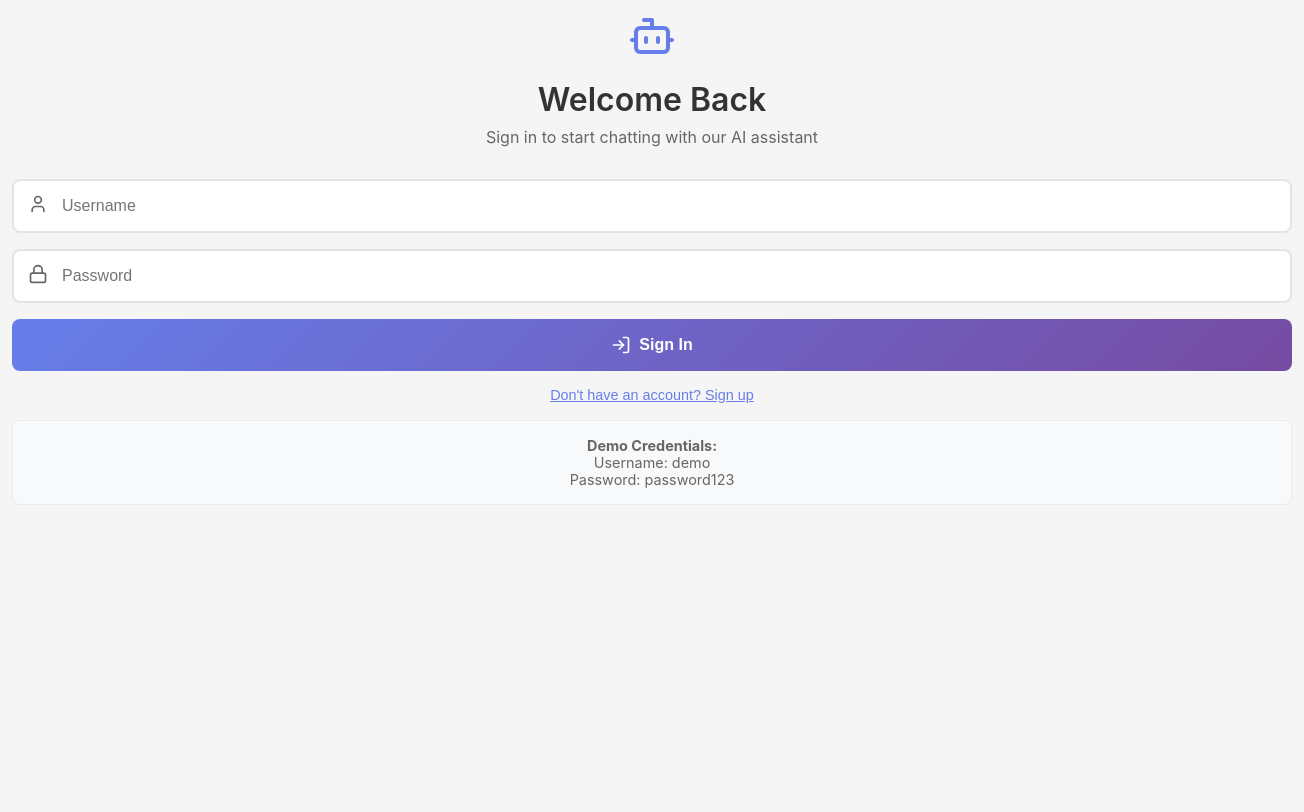
Test: LoginForm › displays error message on login failure
Type "testuser" into the field with placeholder "Username" at (652, 206), box [12,179,1292,233]
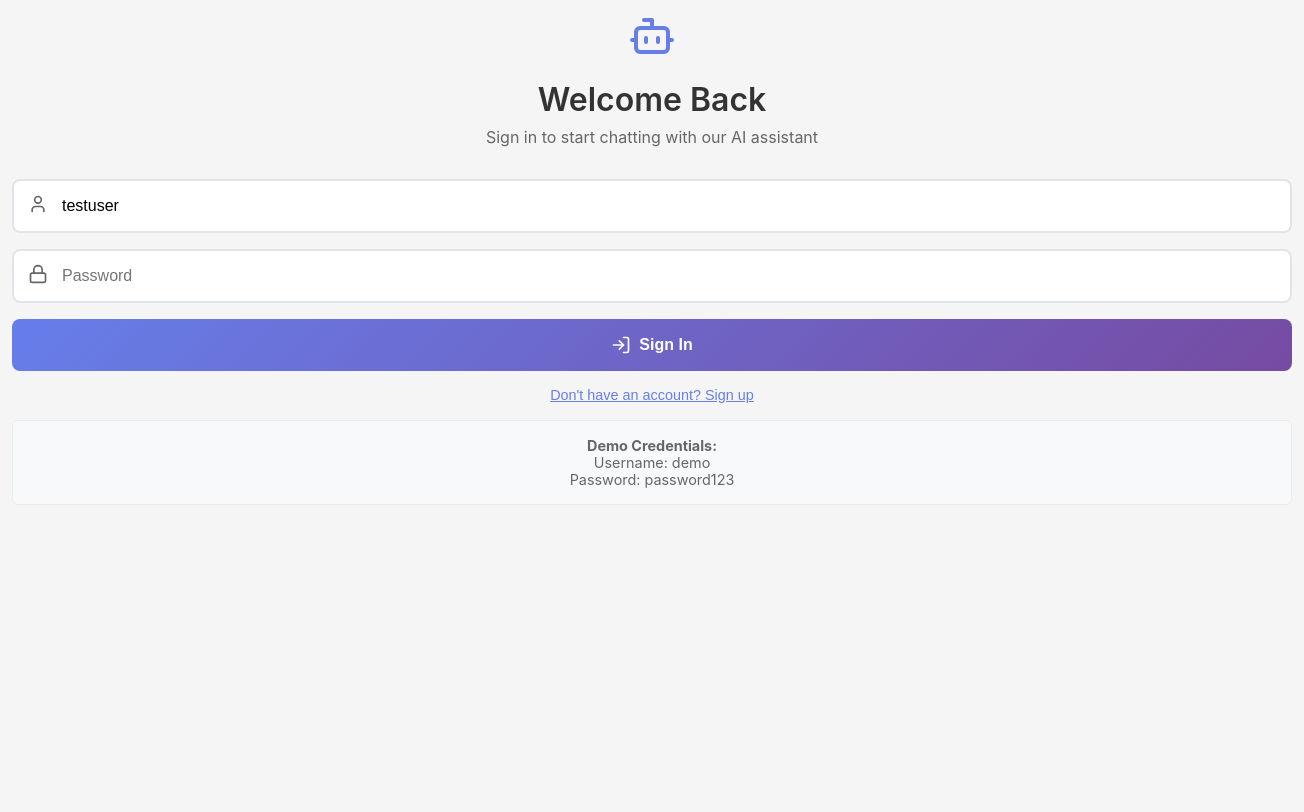
Type "wrongpassword" into the password field with placeholder "Password" at (652, 276), box [12,249,1292,303]
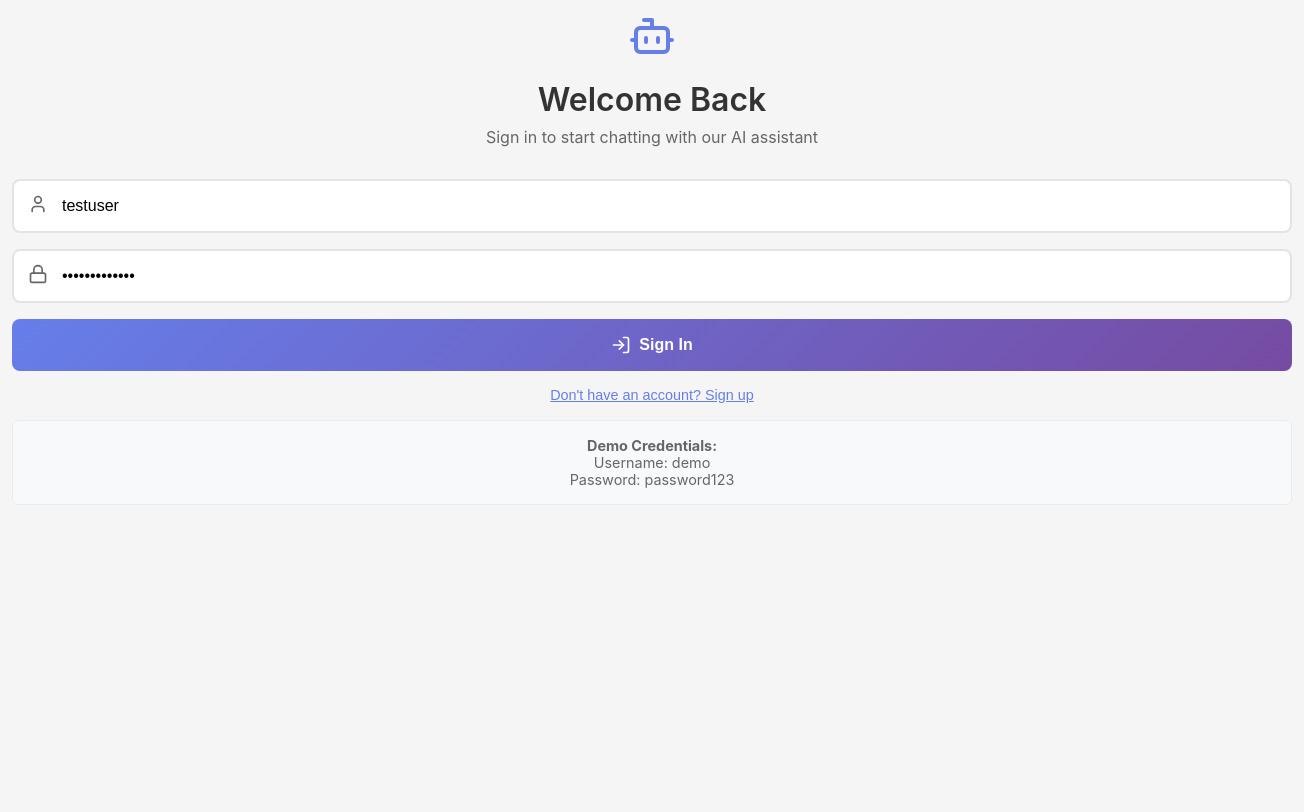
Click the button "Sign In" at (652, 345), box [12,319,1292,371]
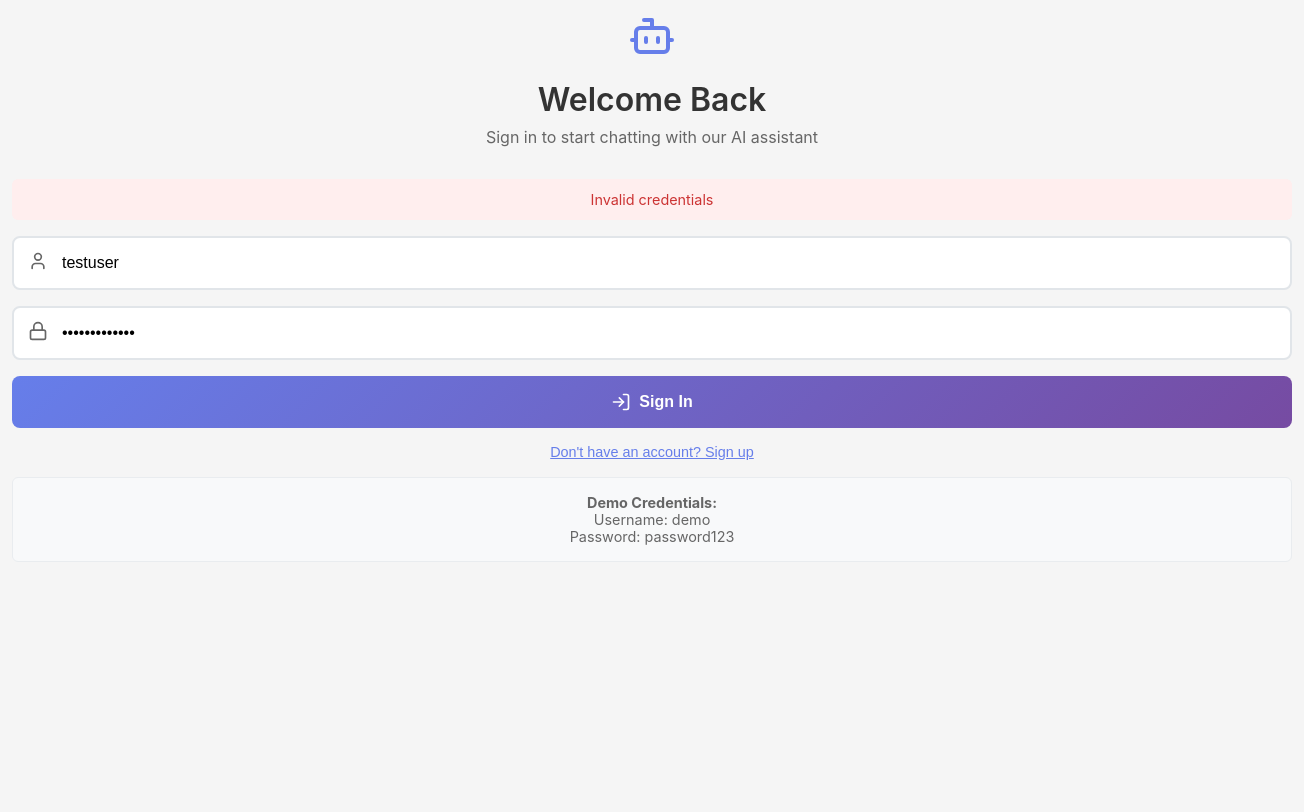
expect the text "Invalid credentials" is shown: met, box [12,179,1292,220]
